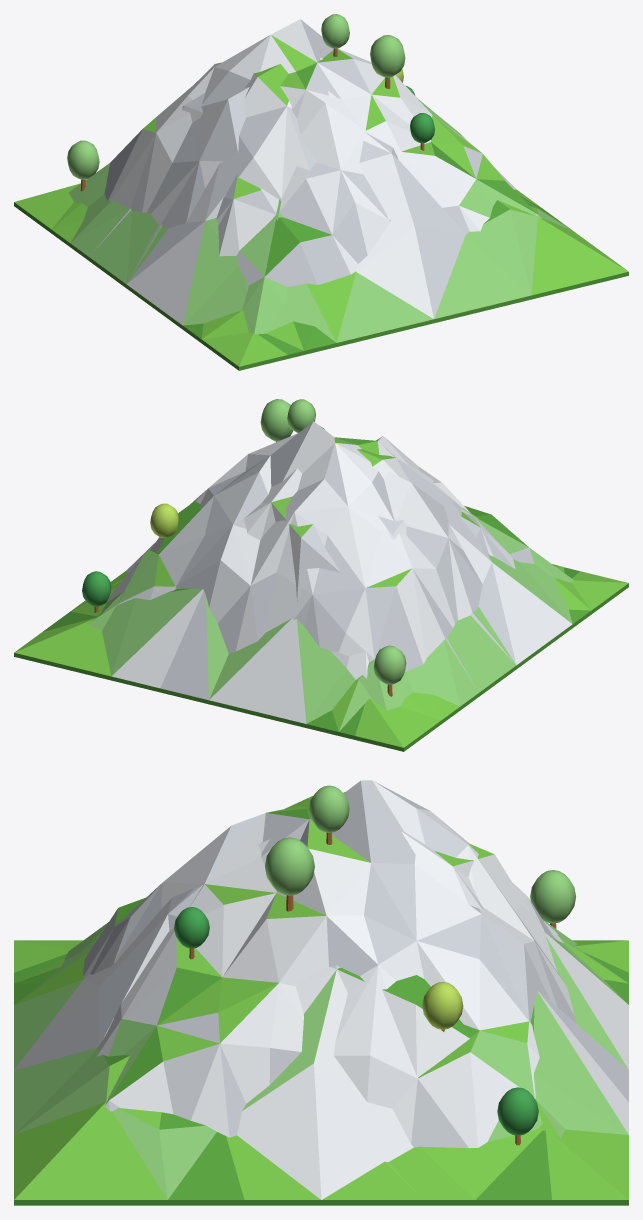
Rendered from montanha_pequena.glb.
The picture shows the model from 3 angles, top to bottom: view 1: azimuth 30°, elevation 25°; view 2: azimuth 150°, elevation 25°; view 3: azimuth 270°, elevation 25°; orthographic projection. The views are drawn at different scales.
Parts seen in each view (by area): view 1: montanha_pequena, colisao_montanha; view 2: montanha_pequena, colisao_montanha; view 3: montanha_pequena, colisao_montanha.
Part boxes in pixels (left/top/right/bottom): montanha_pequena: left=14, top=14, right=628, bottom=370; colisao_montanha: left=14, top=57, right=628, bottom=370; montanha_pequena: left=14, top=399, right=628, bottom=751; colisao_montanha: left=14, top=449, right=628, bottom=751; montanha_pequena: left=14, top=780, right=628, bottom=1205; colisao_montanha: left=14, top=795, right=628, bottom=1205.
Size of the model in its own units: 30 by 16.14 by 30.
1 material, 1 textured.
